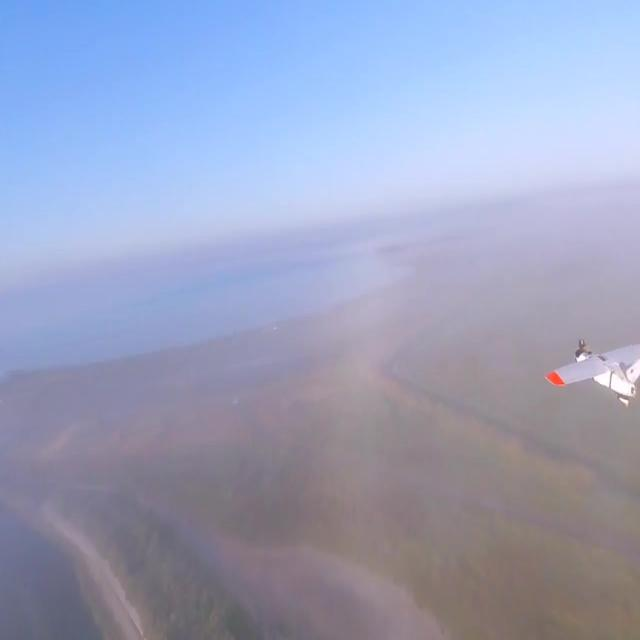iha: (576, 362, 608, 380)
